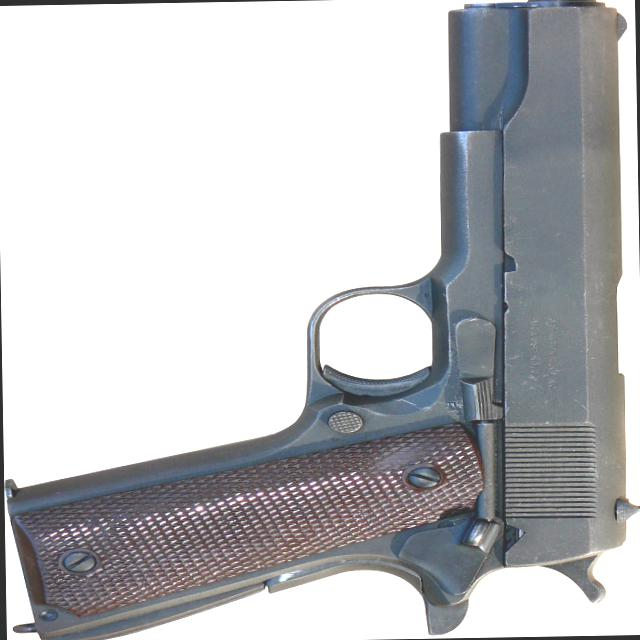handgun: (4, 4, 638, 632)
